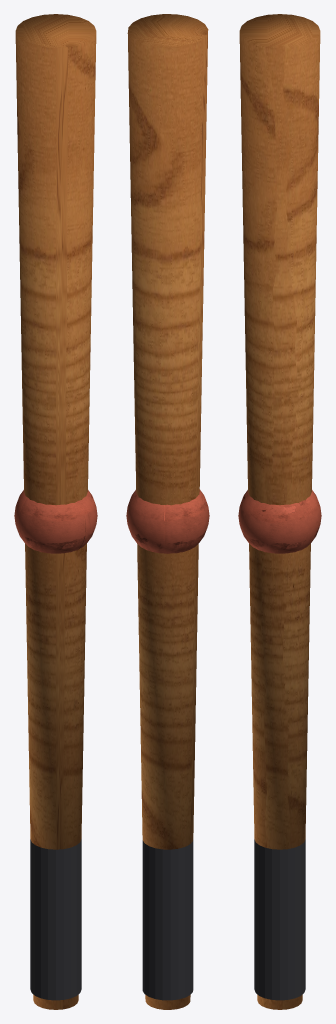
File: lapta.glb
The picture shows the model from 3 angles, left to right: view 1: azimuth 90°, elevation 25°; view 2: azimuth 150°, elevation 25°; view 3: azimuth 270°, elevation 25°; orthographic projection.
Parts seen in each view (by area): view 1: lapta, lapta-tape, ball; view 2: lapta, lapta-tape, ball; view 3: lapta, lapta-tape, ball.
Boxes of the visible parts, x1=… form: lapta: x1=15, y1=14, x2=96, y2=1009; lapta-tape: x1=30, y1=839, x2=81, y2=1000; ball: x1=14, y1=490, x2=97, y2=553; lapta: x1=127, y1=14, x2=208, y2=1009; lapta-tape: x1=142, y1=840, x2=193, y2=1000; ball: x1=126, y1=489, x2=209, y2=553; lapta: x1=239, y1=14, x2=320, y2=1009; lapta-tape: x1=254, y1=839, x2=305, y2=1000; ball: x1=238, y1=490, x2=321, y2=553.
Bounding box in the file's own units: 0.07 × 0.9 × 0.07.
Materials: 3 (2 with a texture image).
